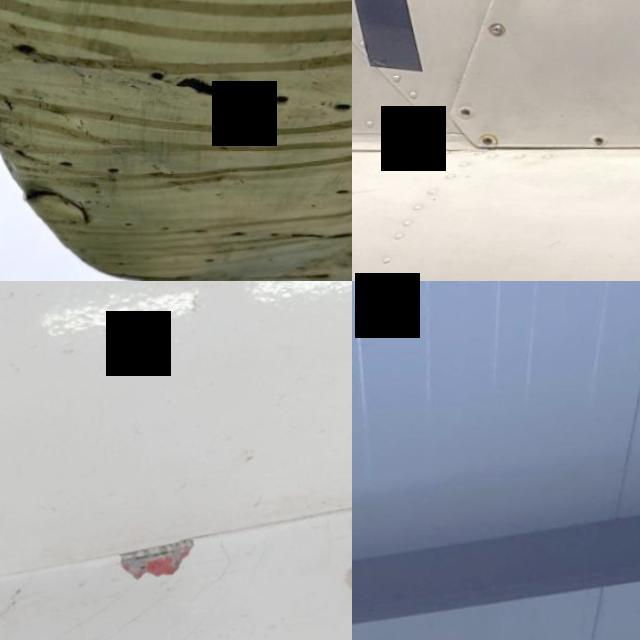Crack: (86, 511, 256, 639), (140, 53, 264, 120)
Missing_Fastener: (456, 106, 479, 123), (591, 134, 610, 150), (484, 134, 499, 146)
